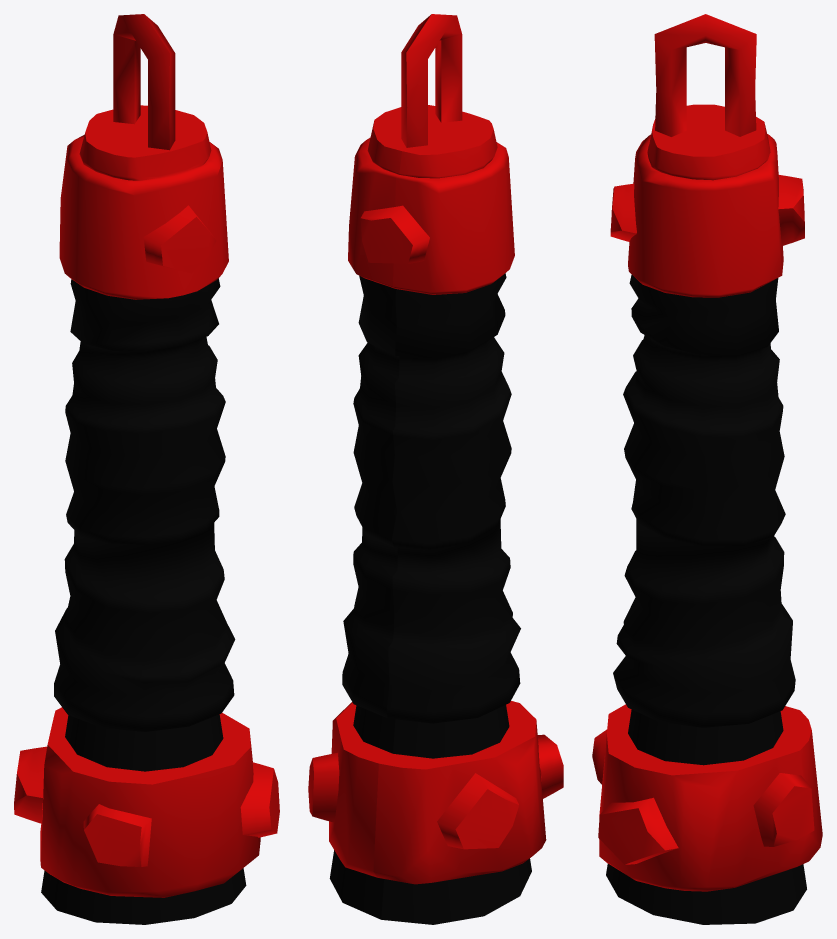
File: MSH_NunChucks_01.fbx
3 renders of one model, left to right at view 1: azimuth 30°, elevation 25°; view 2: azimuth 150°, elevation 25°; view 3: azimuth 270°, elevation 25°, orthographic.
Visible parts, largest first — view 1: MSH_NunChucks_01; view 2: MSH_NunChucks_01; view 3: MSH_NunChucks_01.
Boxes of the visible parts, x1=… form: MSH_NunChucks_01: x1=14, y1=14, x2=279, y2=924; MSH_NunChucks_01: x1=308, y1=14, x2=563, y2=924; MSH_NunChucks_01: x1=592, y1=14, x2=822, y2=924.
Bounding box in the file's own units: 7.1 × 28.35 × 6.77.
